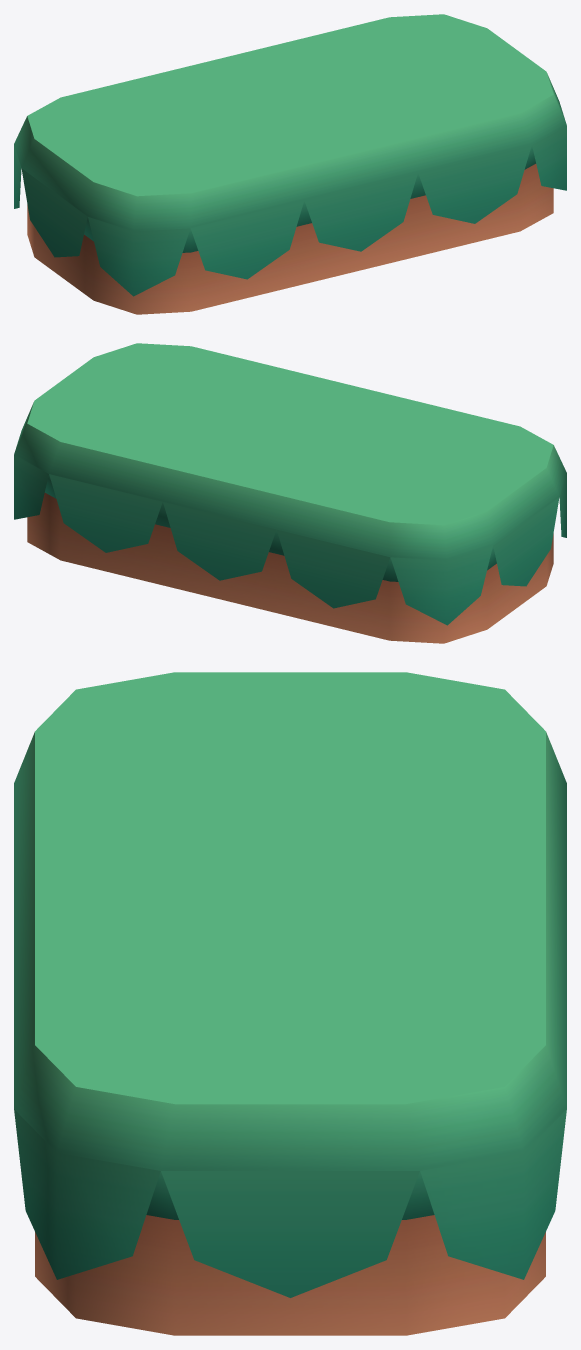
The model's file is kenney-platformer-block-grass-overhang-low-long.glb.
3 views of the same model, one above another, from view 1: azimuth 30°, elevation 25°; view 2: azimuth 150°, elevation 25°; view 3: azimuth 270°, elevation 25° (orthographic). The views are drawn at different scales.
Visible parts, largest first — view 1: block-grass-overhang-low-long; view 2: block-grass-overhang-low-long; view 3: block-grass-overhang-low-long.
Part boxes in pixels (x1,y1,x2,y2): block-grass-overhang-low-long: [14, 14, 566, 314]; block-grass-overhang-low-long: [14, 343, 566, 643]; block-grass-overhang-low-long: [14, 672, 566, 1335].
Bounding box in the file's own units: 2.08 × 0.5 × 1.08.
1 material, 1 textured.
